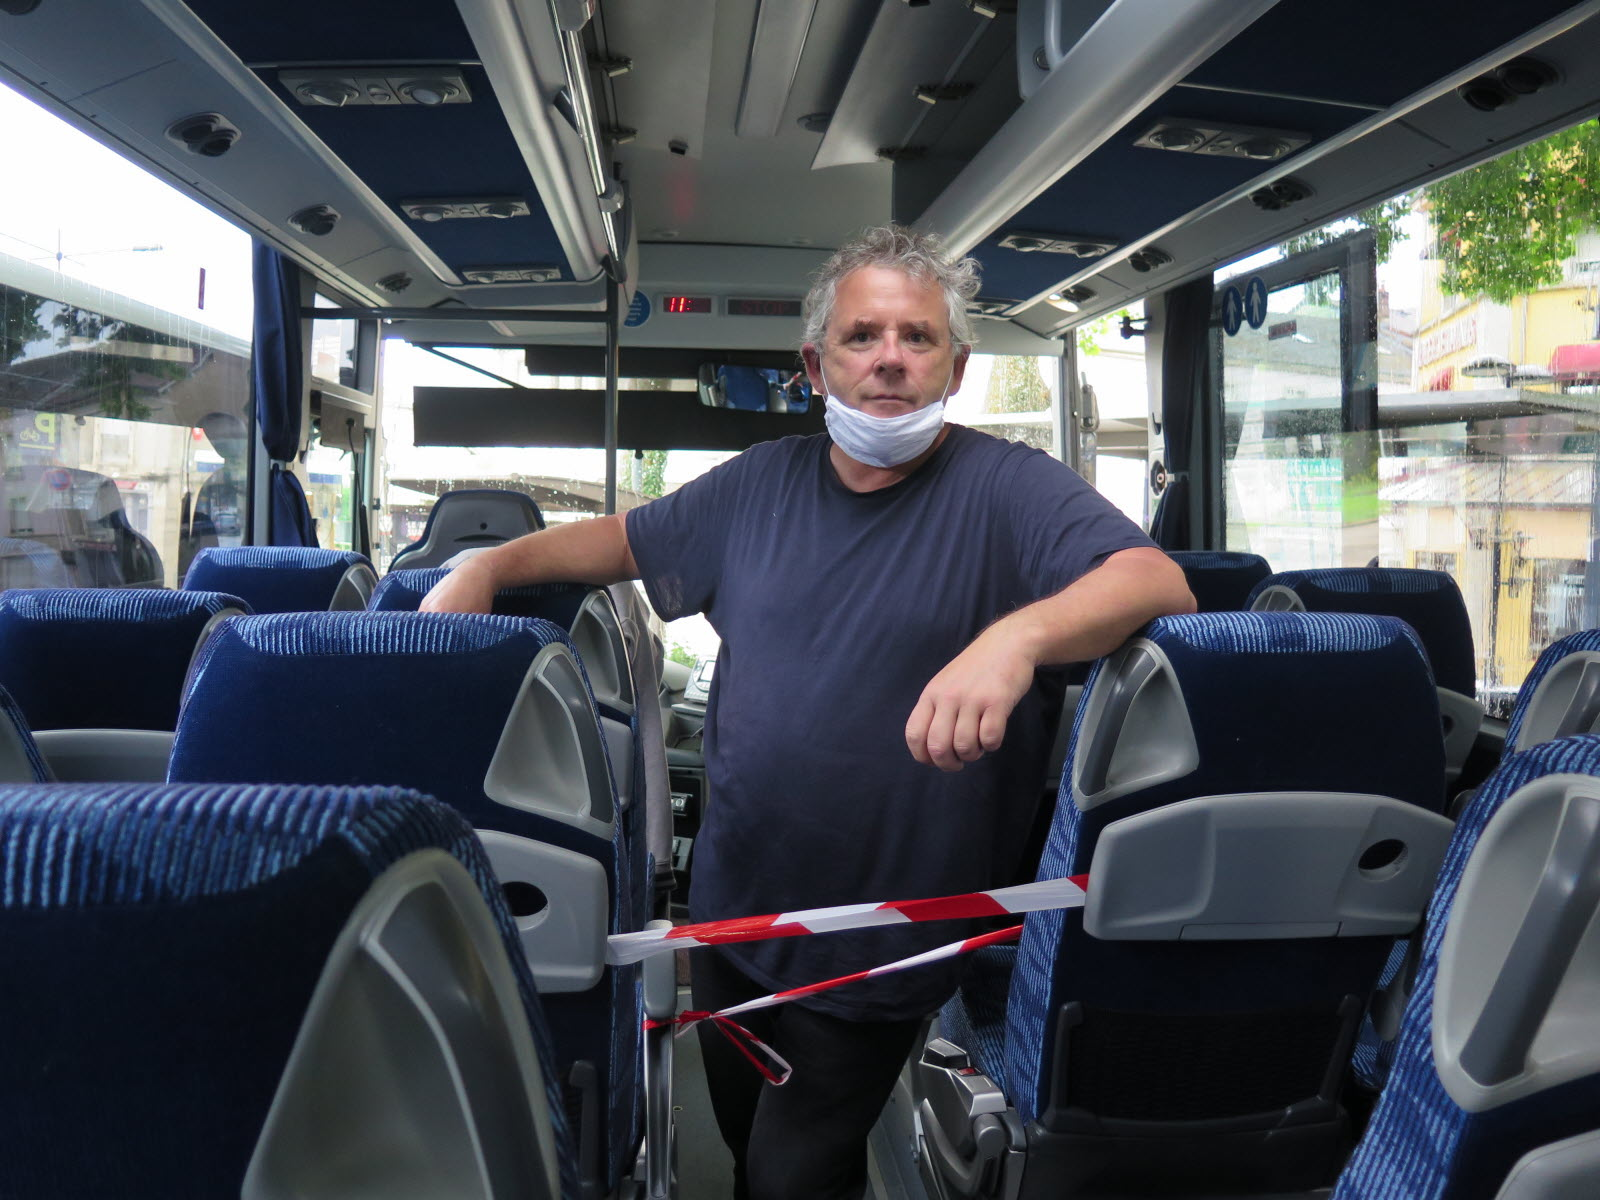with_incorrect_mask: (804, 308, 975, 465)
